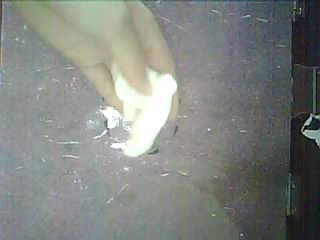paper: (100, 69, 177, 156)
